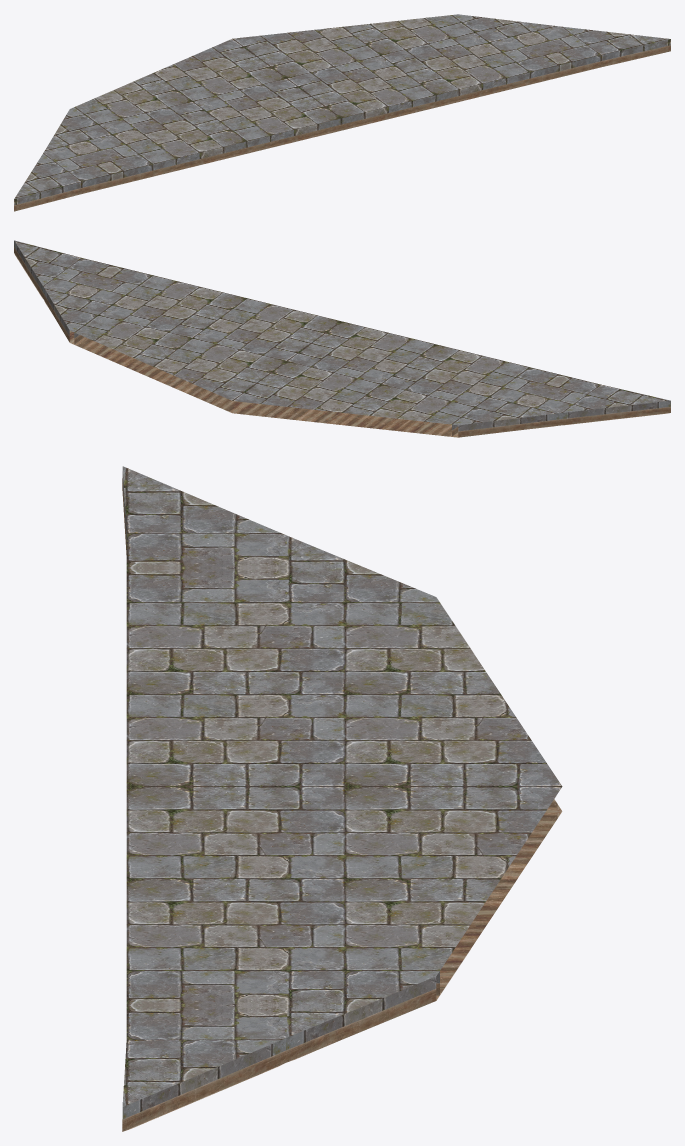
3 views of the same model, one above another, from view 1: azimuth 30°, elevation 25°; view 2: azimuth 150°, elevation 25°; view 3: azimuth 270°, elevation 25° (orthographic). The views are drawn at different scales.
Parts seen in each view (by area): view 1: SM_DR_Greathall_FloorCap_01_LOD0; view 2: SM_DR_Greathall_FloorCap_01_LOD0; view 3: SM_DR_Greathall_FloorCap_01_LOD0.
Boxes of the visible parts, x1,y1,x2,y2 form: SM_DR_Greathall_FloorCap_01_LOD0: (14, 14, 670, 211); SM_DR_Greathall_FloorCap_01_LOD0: (14, 240, 670, 437); SM_DR_Greathall_FloorCap_01_LOD0: (122, 466, 562, 1131).
Size of the model in its own units: 27.85 by 0.4999 by 8.08.
2 materials, 2 textured.
